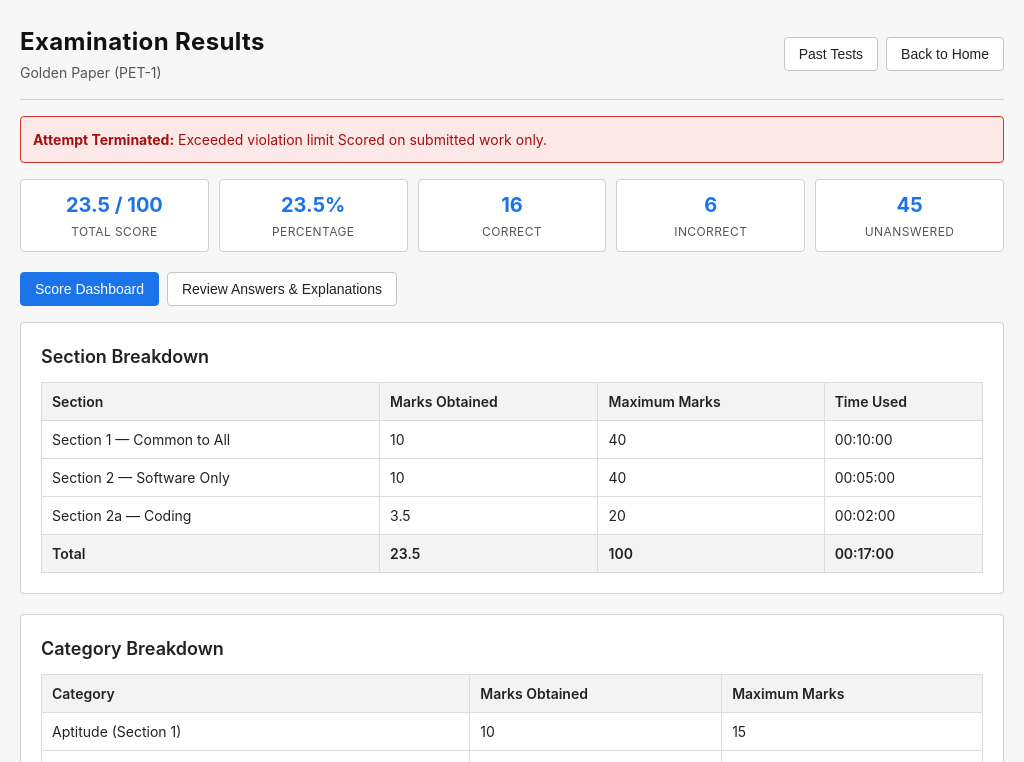
Test: M10 Results dashboard and review UI › renders golden score tables and filters review items
Check: the text with test id "headline-total" reads "23.5 / 100", box left=66, top=193, right=163, bottom=217
Check: the text "23.5%" is shown, box left=281, top=193, right=345, bottom=217
Click the button "Review Answers & Explanations": (282, 289) left=167, top=272, right=397, bottom=306
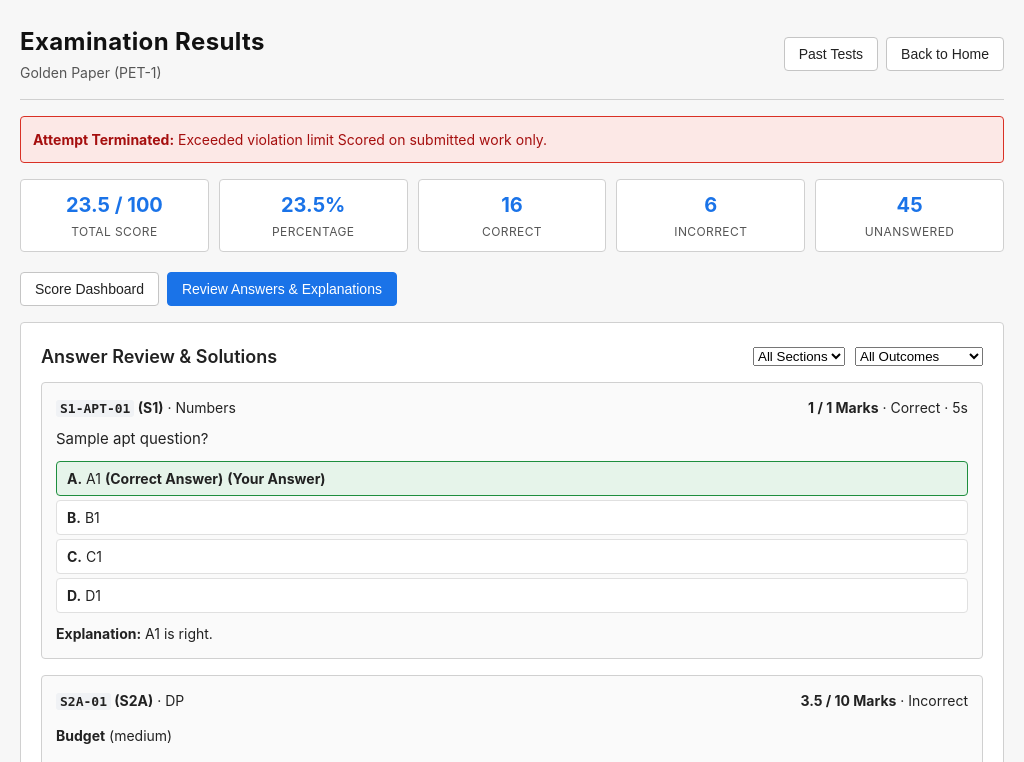
Check: the text "Sample apt question?" is shown, box left=56, top=428, right=208, bottom=448
Select "Section 2a" in the dropdown named "Filter by section": (799, 356) left=753, top=347, right=845, bottom=366
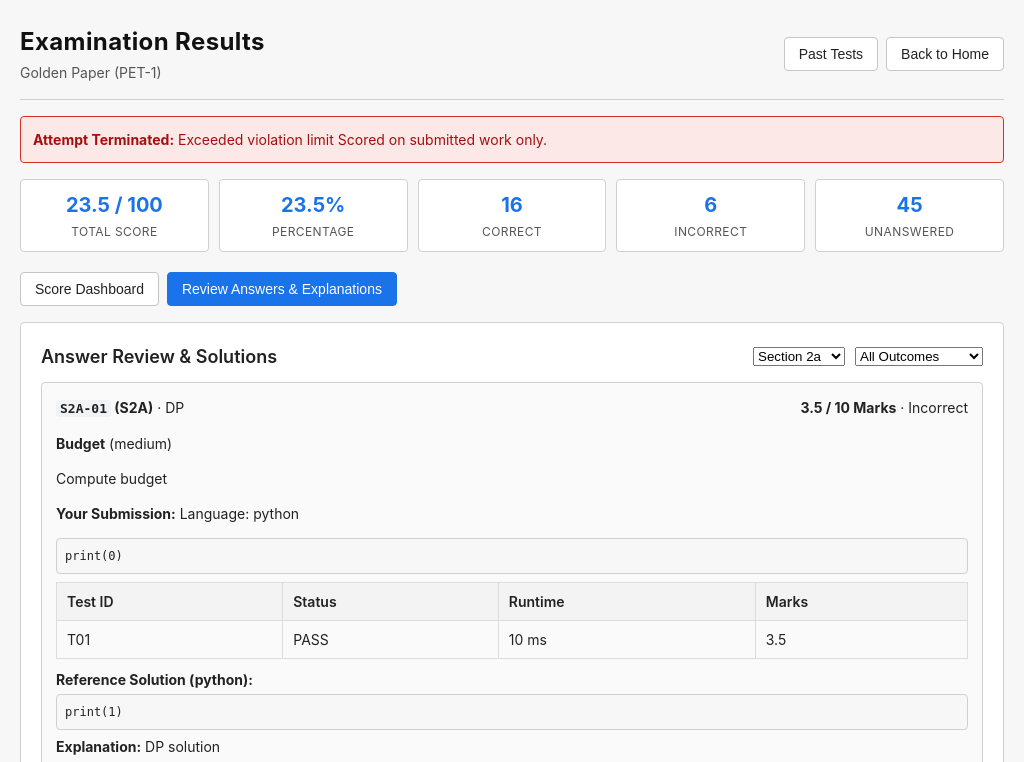
Check: the text "DP solution" is shown, box left=145, top=738, right=220, bottom=754
Check: the text "Sample apt question?" is gone
